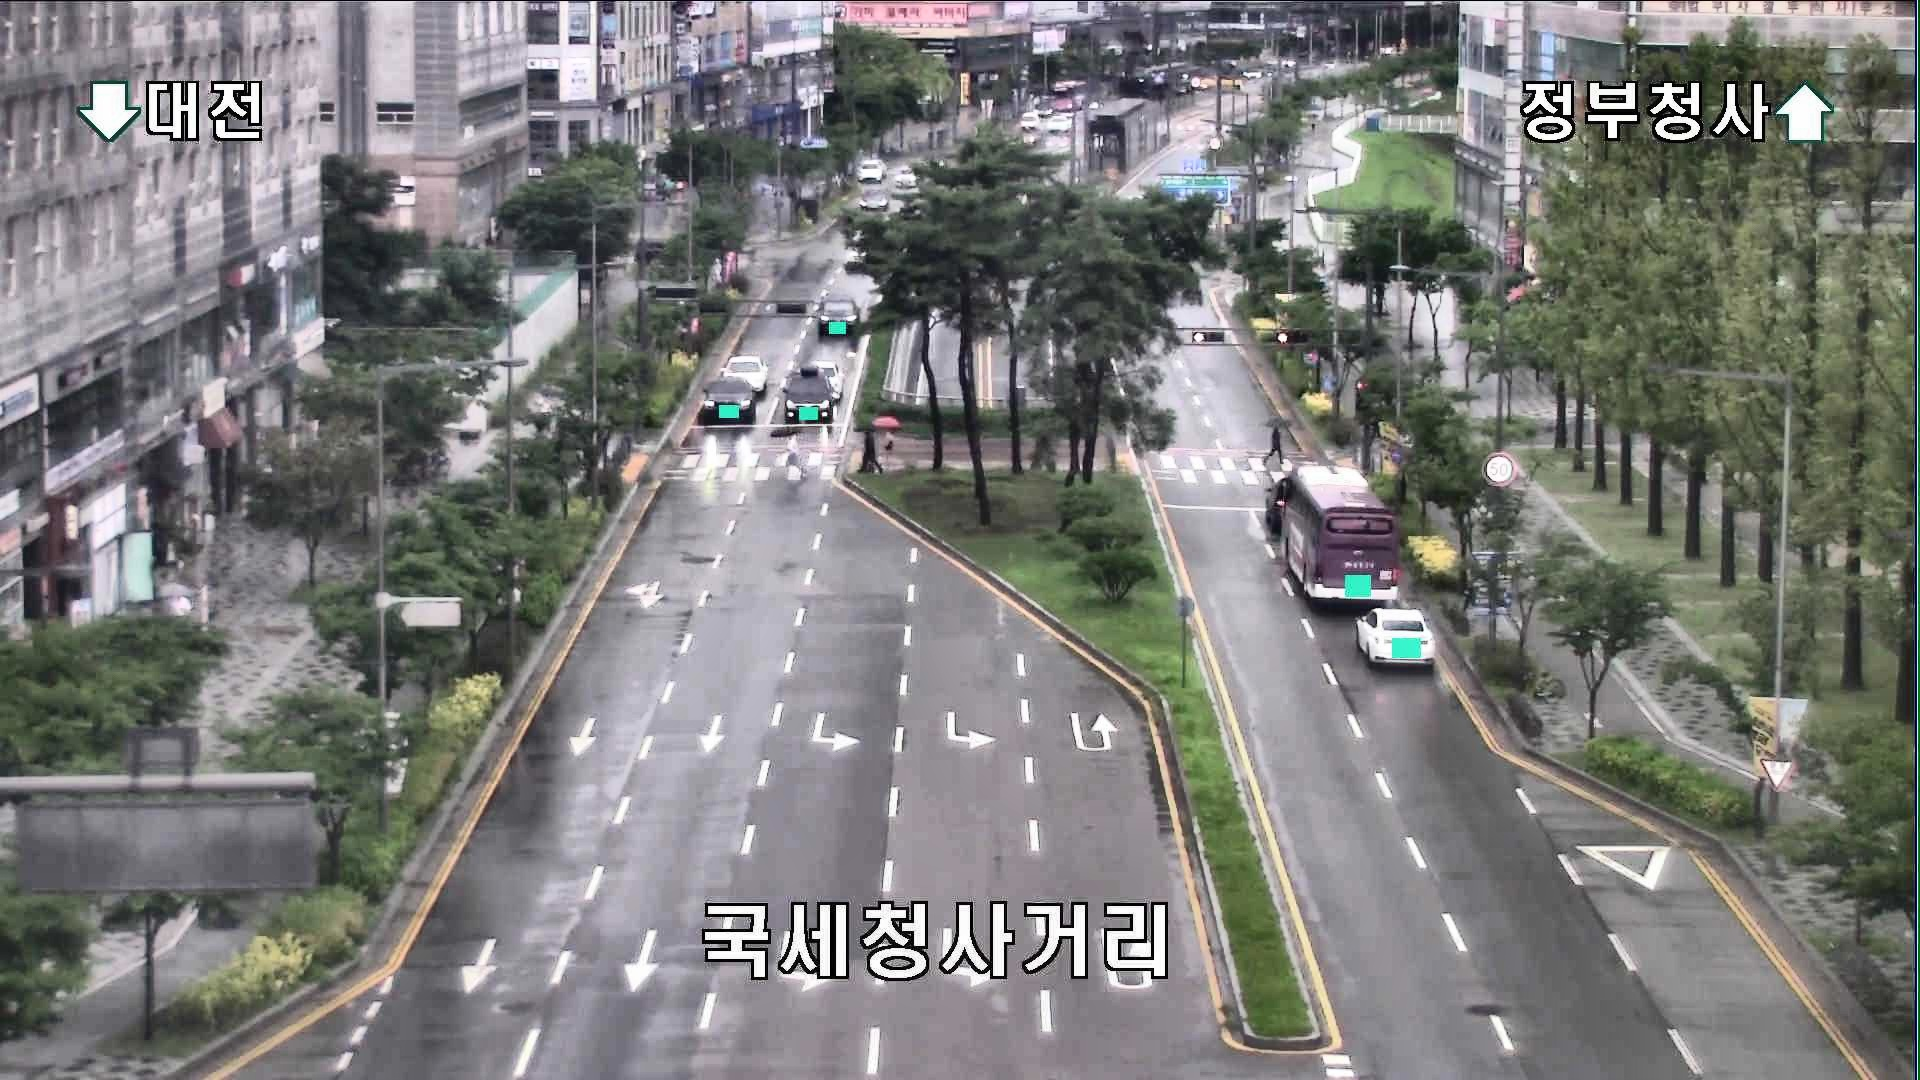um_crosswalk: (769, 423, 806, 479), (855, 421, 881, 479), (874, 413, 899, 465), (1265, 414, 1291, 464)
um_sidewalk: (157, 580, 195, 645)
